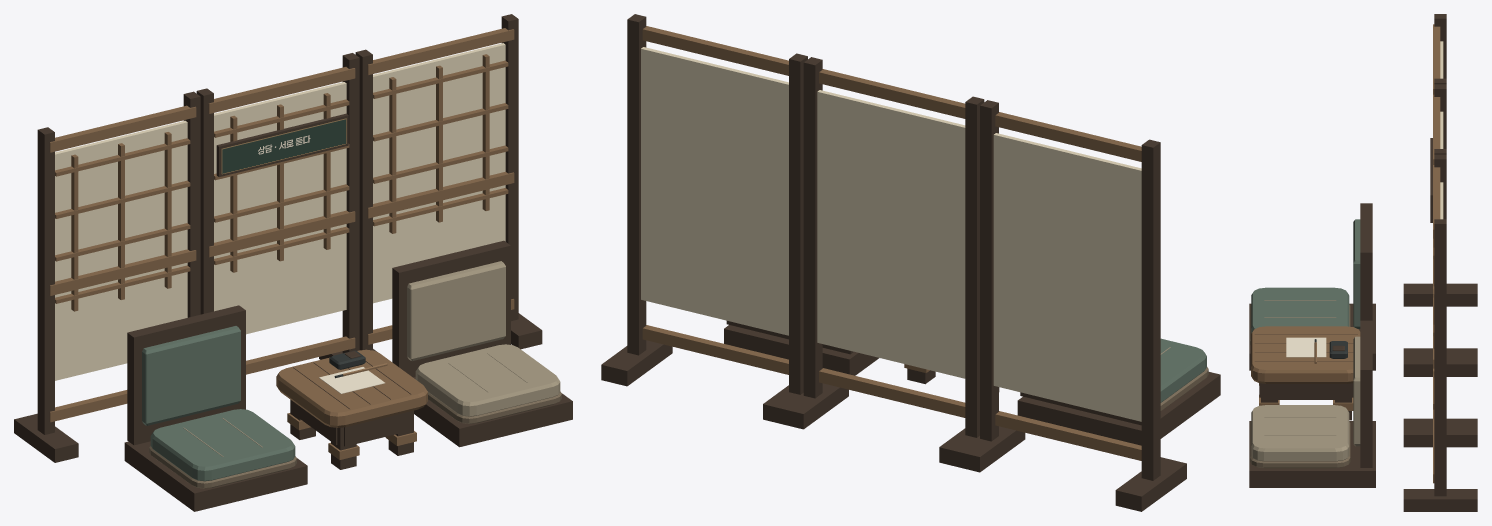
Rendered from 08_Counseling_Alcove.fbx.
3 renders of one model, left to right at view 1: azimuth 30°, elevation 25°; view 2: azimuth 150°, elevation 25°; view 3: azimuth 270°, elevation 25°, orthographic. The views are drawn at different scales.
Visible parts, largest first — view 1: 08_Counseling_Alcove, 08_Counseling_Alcove__Low_Table, 08_Counseling_Alcove__Structure; view 2: 08_Counseling_Alcove; view 3: 08_Counseling_Alcove, 08_Counseling_Alcove__Low_Table.
Boxes of the visible parts, box(x1,y1,x2,y2) form: 08_Counseling_Alcove: box(14, 14, 572, 511); 08_Counseling_Alcove__Low_Table: box(276, 349, 427, 469); 08_Counseling_Alcove__Structure: box(216, 113, 348, 176); 08_Counseling_Alcove: box(601, 14, 1220, 511); 08_Counseling_Alcove: box(1249, 14, 1477, 511); 08_Counseling_Alcove__Low_Table: box(1251, 326, 1360, 420).
Bounding box in the file's own units: 331 × 204 × 148.
Materials: 1 (1 with a texture image).
